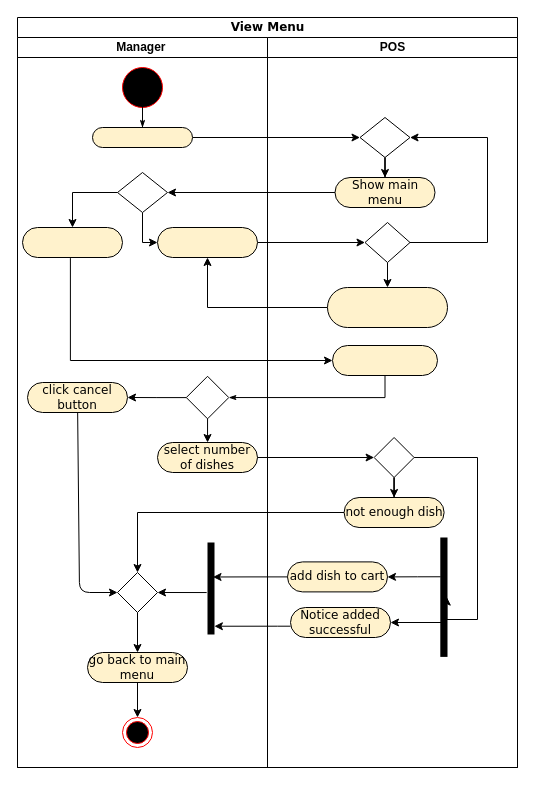
The diagram is 535 pixels wide and 785 high, and some of its shapes have lost their labels. Here are the shapes that lost their labels. From the top down, the box of each, then its label:
(92, 126, 192, 148): login
(22, 226, 122, 258): choose dish
(156, 226, 258, 258): search dish
(326, 286, 448, 328): show no result found
(332, 344, 438, 376): show dish detail
